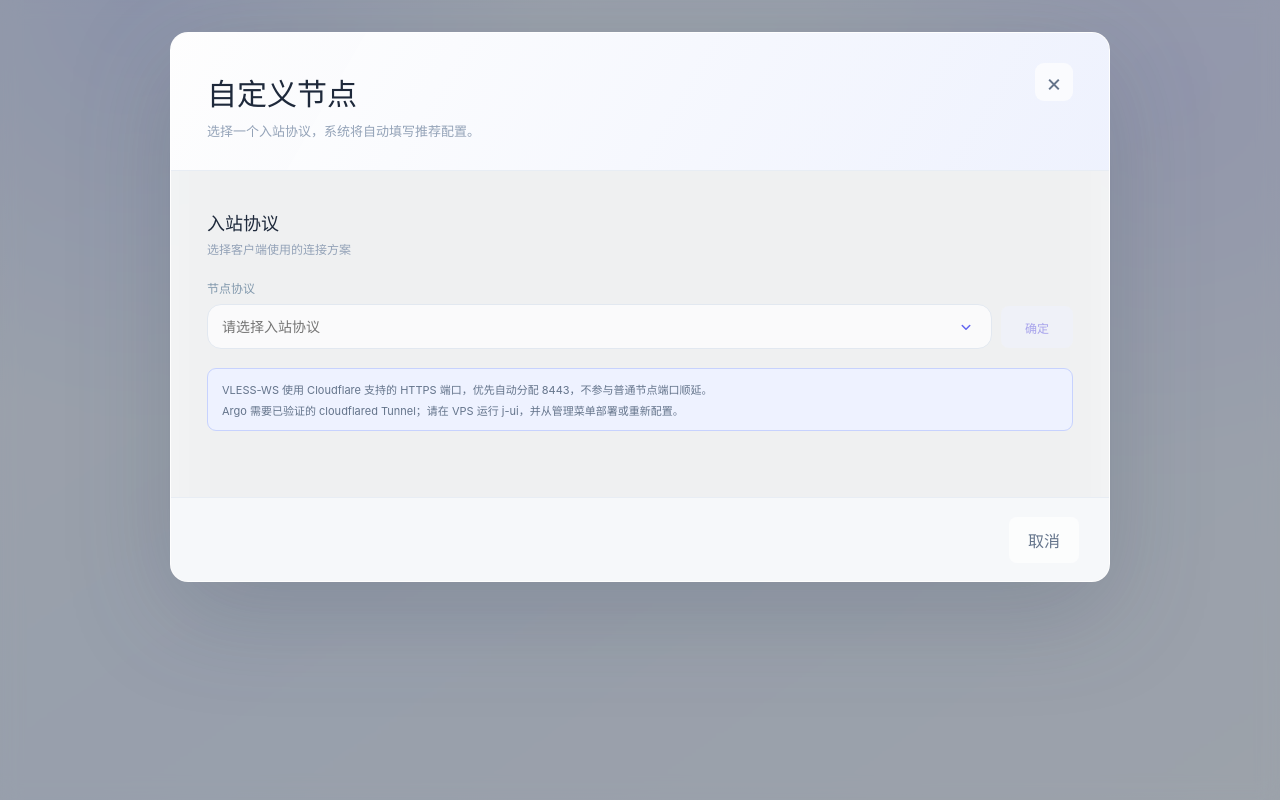
Test: NodeFormModal › uses saved ingress prerequisites outside mock mode
This screenshot has width=1280, height=800.
Click the button with class "dropdown-trigger" at (966,327), box [948, 309, 984, 345]
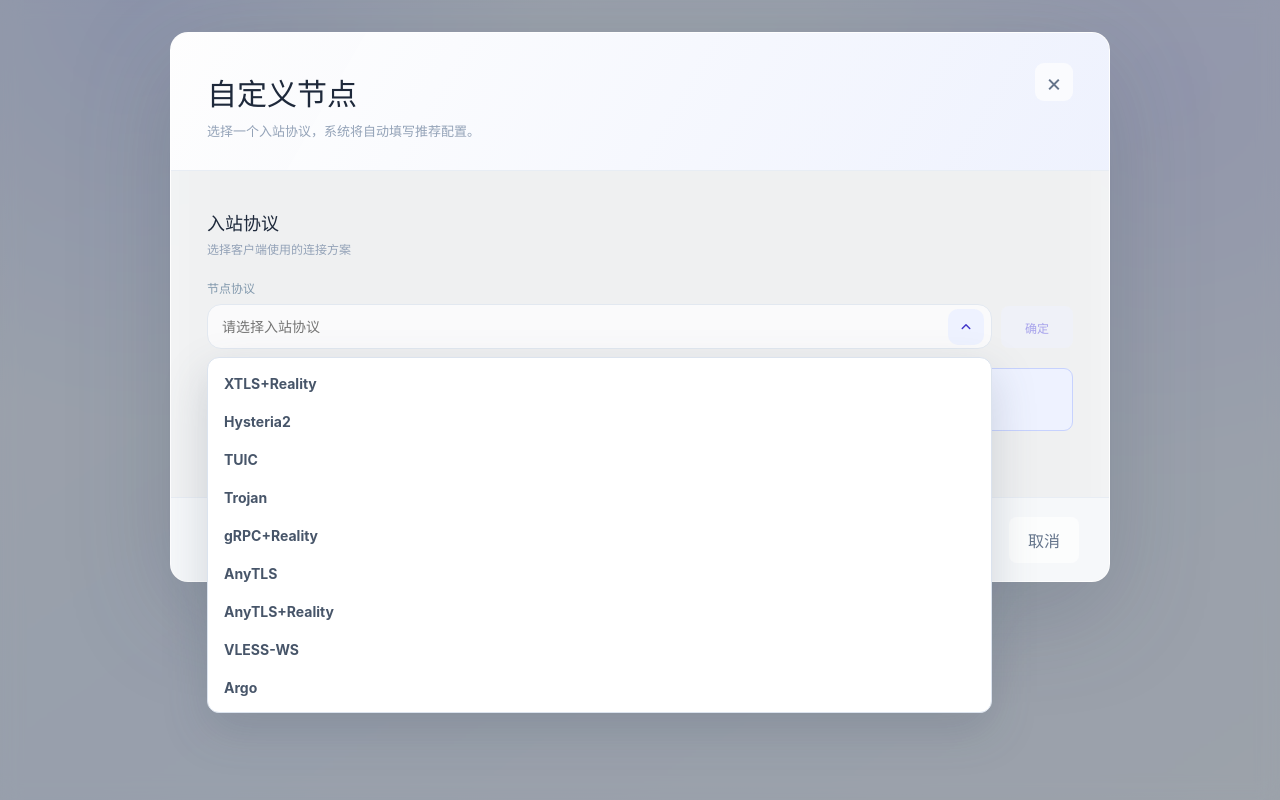
Now the option with class "dropdown-option" showing "VLESS-WS" is enabled
Now the option with class "dropdown-option" showing "Argo" is enabled, box [214, 668, 985, 706]
Click the option with class "dropdown-option" showing "VLESS-WS" at (262,649), box [214, 630, 985, 668]
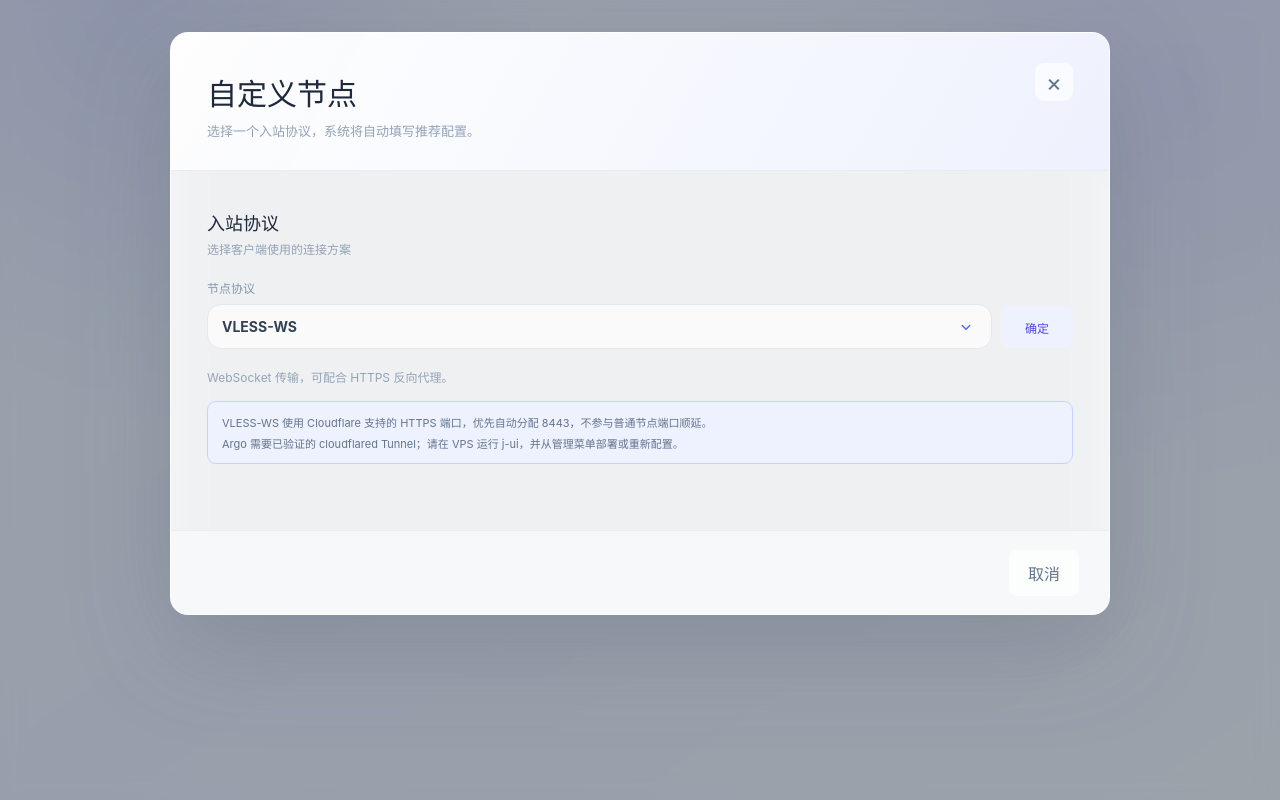
Click the button "确定" at (1037,327), box [1001, 306, 1073, 348]
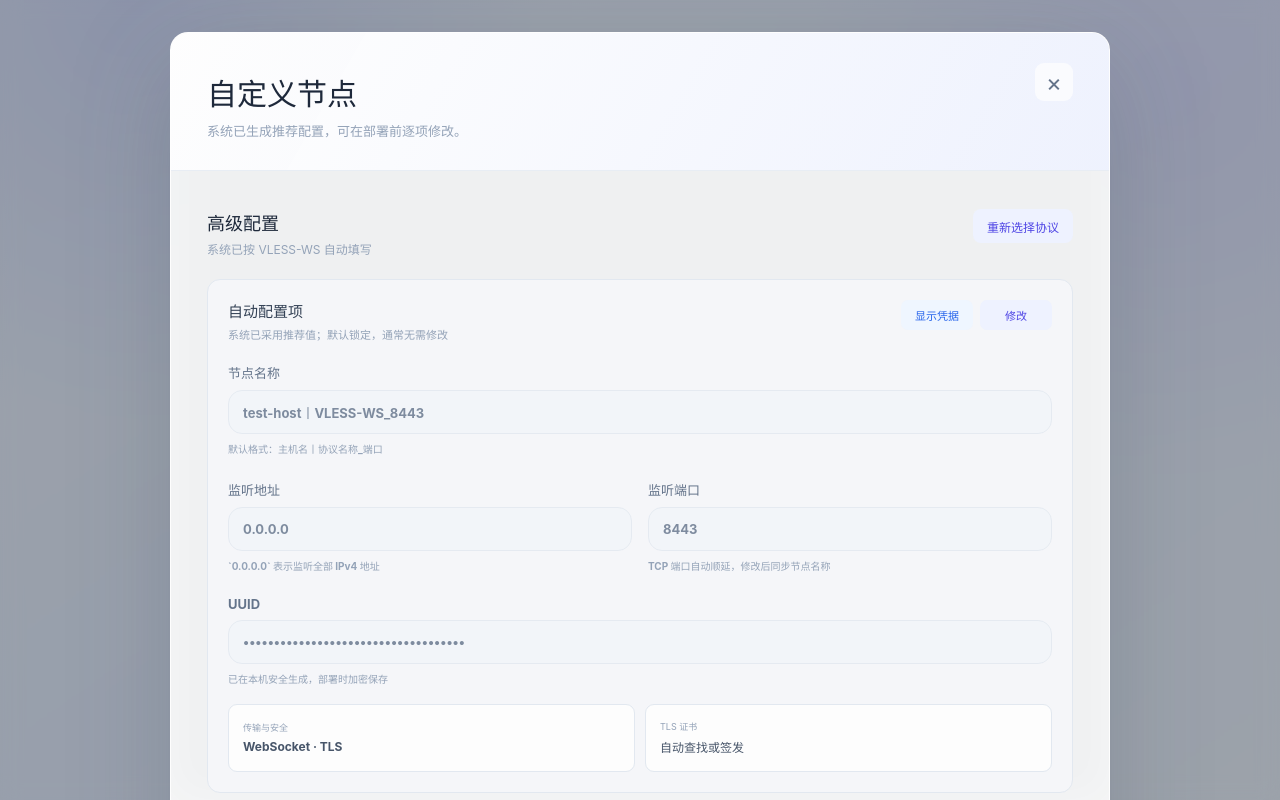
Now the number field labelled "监听端口 TCP 端口自动顺延，修改后同步节点名称" holds "8443", box [648, 506, 1052, 550]
